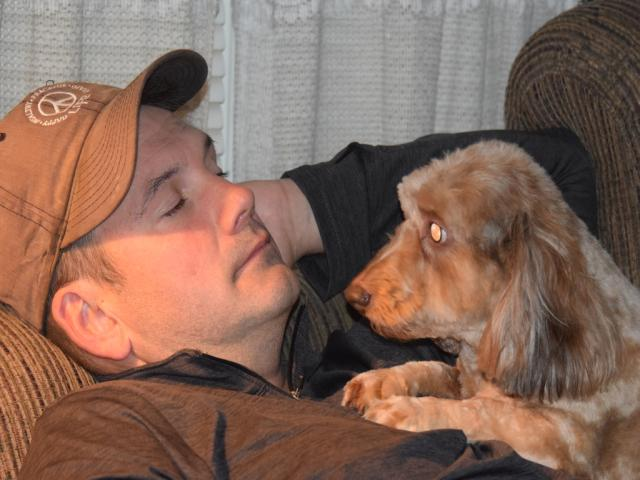Dog: (340, 137, 640, 480)
